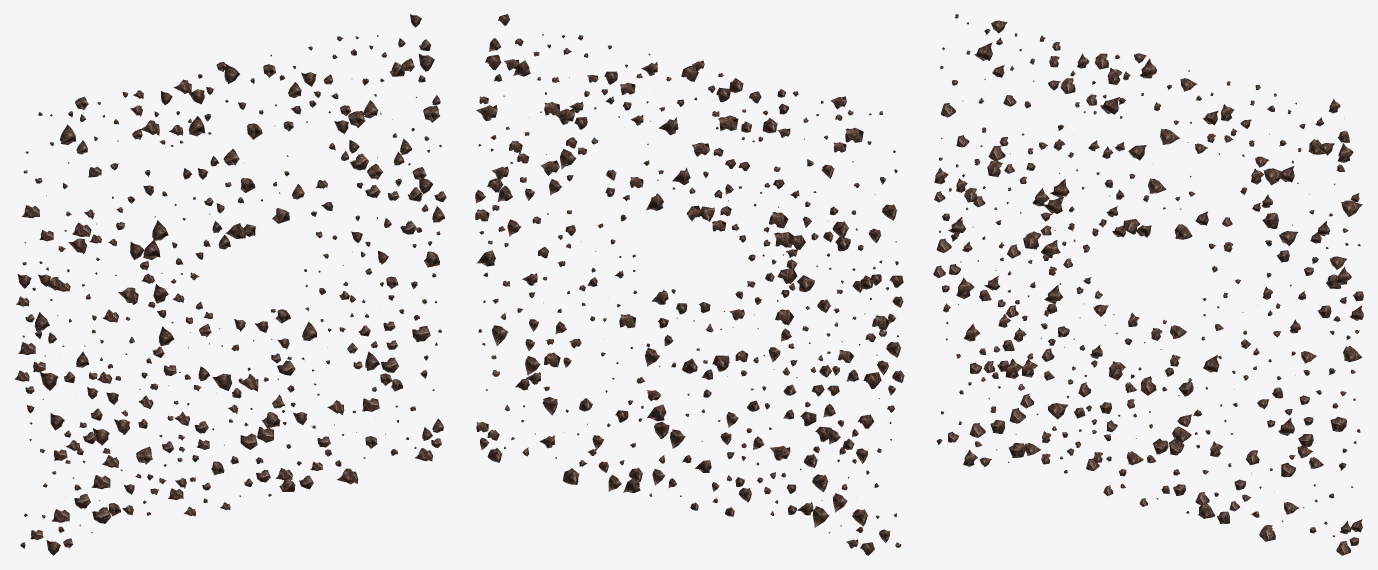
The model's file is stones2.obj.
3 renders of one model, left to right at view 1: azimuth 30°, elevation 25°; view 2: azimuth 150°, elevation 25°; view 3: azimuth 330°, elevation 25°, orthographic.
Visible parts, largest first — view 1: Object__0; view 2: Object__0; view 3: Object__0.
Boxes of the visible parts, x1,y1,x2,y2 form: Object__0: (14,14,446,555); Object__0: (475,14,904,555); Object__0: (933,14,1363,555).
Size of the model in its own units: 403 by 408 by 37.56.
1 material, 1 textured.
